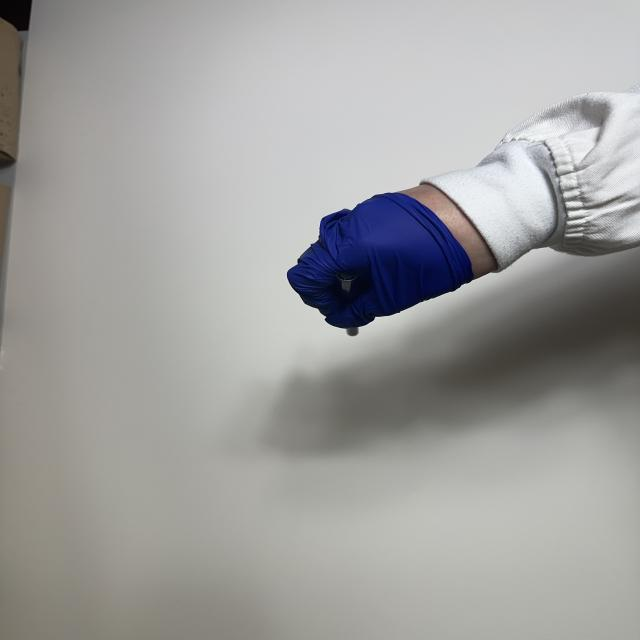glove_partial: (286, 180, 500, 329)
